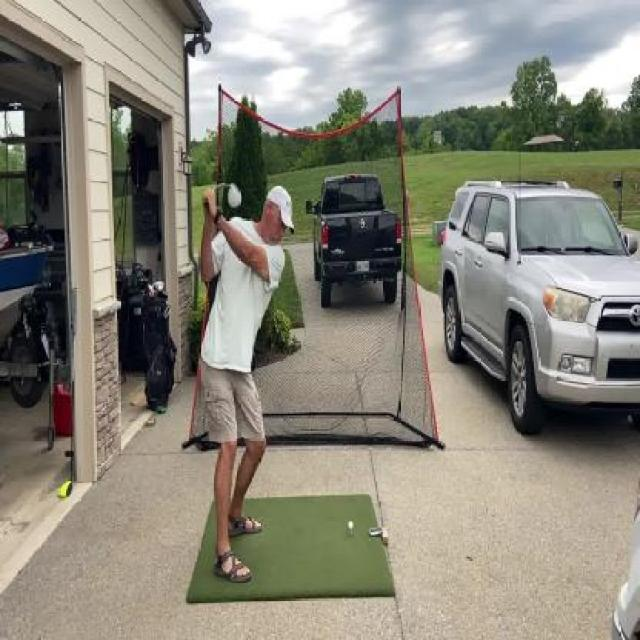club head: (226, 182, 242, 209)
